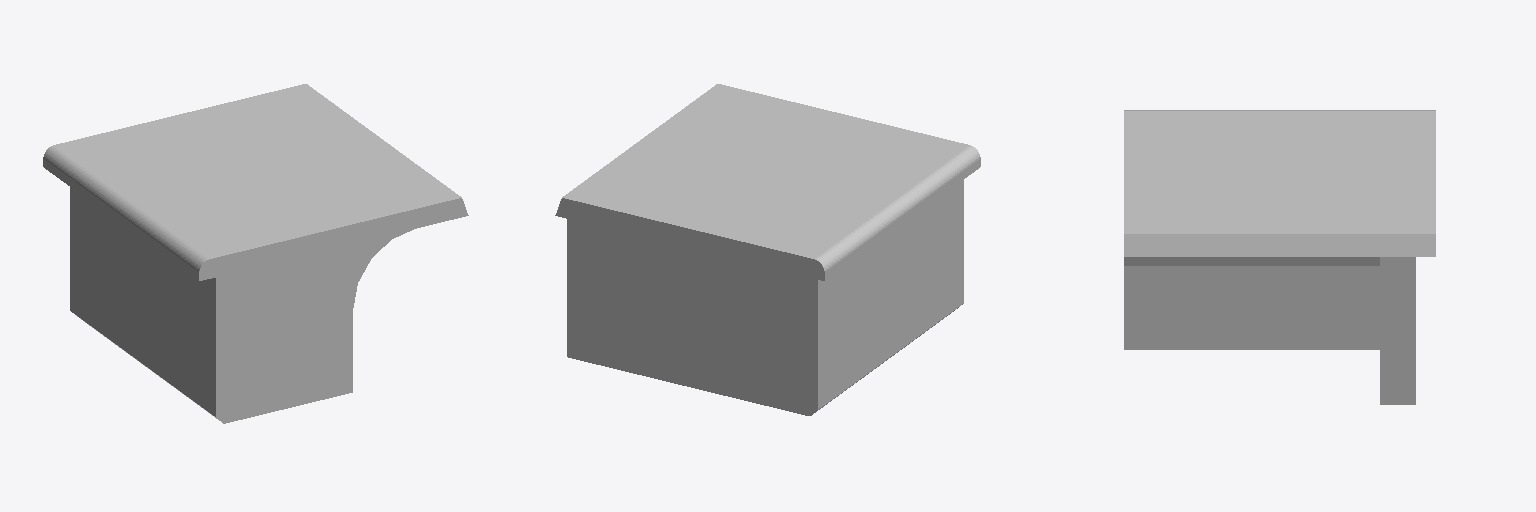
Rendered from counter corner flip.obj.
The picture shows the model from 3 angles: view 1: azimuth 30°, elevation 25°; view 2: azimuth 150°, elevation 25°; view 3: azimuth 270°, elevation 25°; orthographic projection.
Visible parts, largest first — view 1: end_counter.001_Cube.020; view 2: end_counter.001_Cube.020; view 3: end_counter.001_Cube.020.
Boxes of the visible parts, box(x1,y1,x2,y2) form: end_counter.001_Cube.020: box(43, 84, 468, 423); end_counter.001_Cube.020: box(555, 84, 980, 415); end_counter.001_Cube.020: box(1124, 110, 1435, 404).
Bounding box in the file's own units: 2.13 × 1.27 × 2.14.